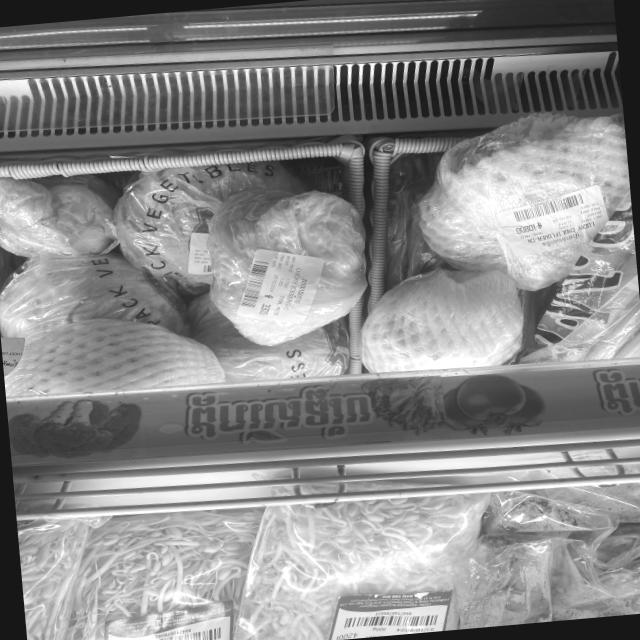196: (277, 276, 285, 287)
205: (556, 219, 572, 228)
545: (513, 221, 538, 236)
569: (282, 277, 291, 289)
580: (556, 222, 574, 232)
623: (551, 212, 573, 223)
696: (267, 273, 280, 292)
893: (151, 626, 193, 640), (394, 626, 434, 633), (373, 611, 413, 616), (337, 631, 358, 640), (258, 303, 272, 316), (381, 594, 410, 599), (371, 627, 387, 632)
Yolov11kh: (180, 379, 383, 450), (578, 365, 640, 418), (537, 229, 582, 249), (291, 277, 308, 306), (261, 292, 274, 300), (535, 220, 545, 229)
